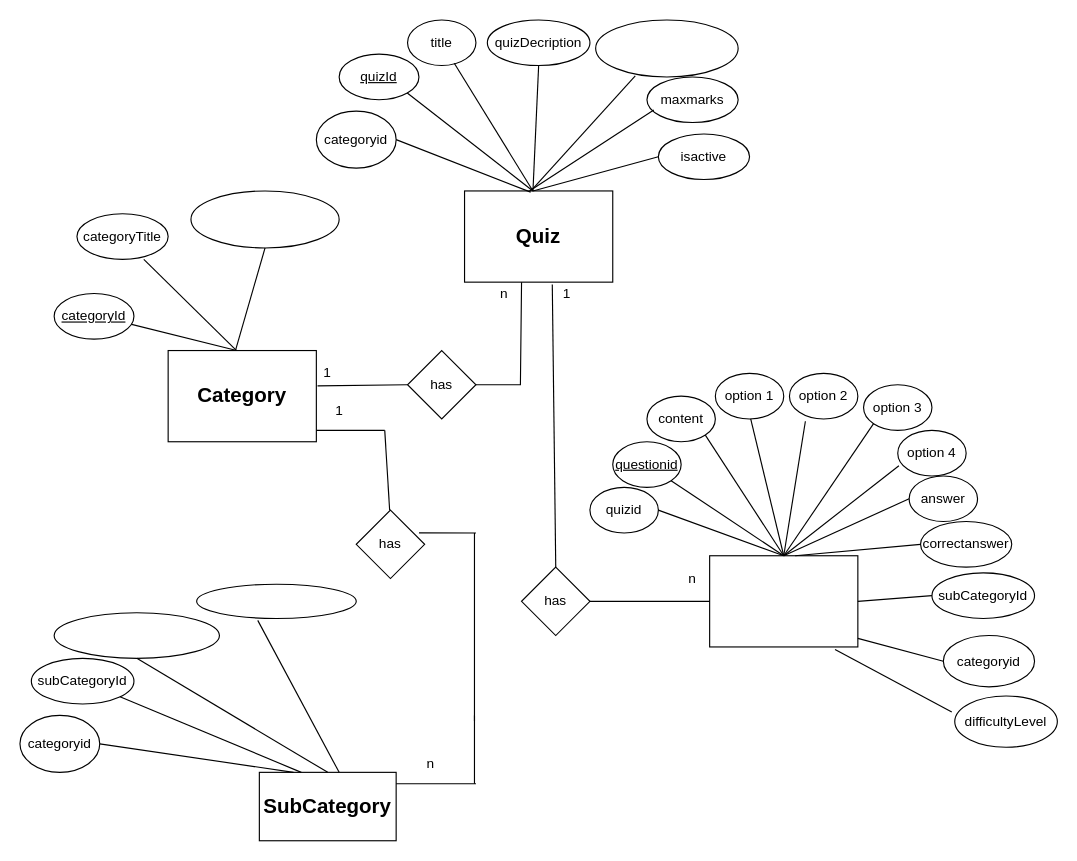
Some shapes in this 1077 by 861 pixel diagram are drawn without their labels. The centre of each missing label's shape, as x and y in pixels:
"categoryDescription" belongs at point 264,219.
"numberOfQuestions" belongs at point 666,48.
"Question" belongs at point 783,601.
"subCategoryDescription" belongs at point 276,600.
"subCategoryTitle" belongs at point 136,635.
